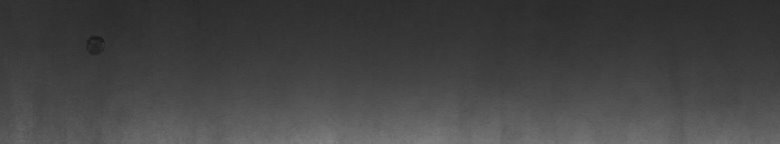fi: (87, 32, 105, 56)
